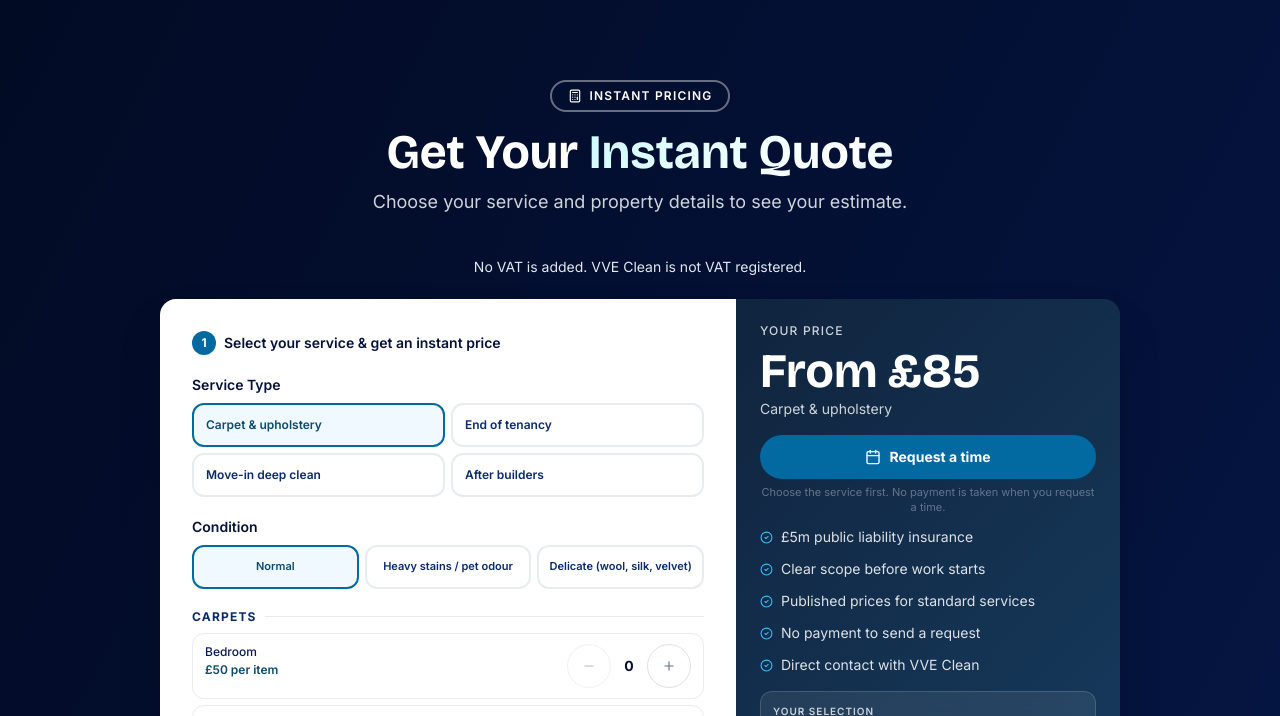
After-builders selection in the general quote calculator › offers an assessed quote and guided project form without a default property or checkout amount
This screenshot has width=1280, height=716.
Click the button "After builders". click: [578, 475]
box: 451,453 -> 704,497
(page scrolled)
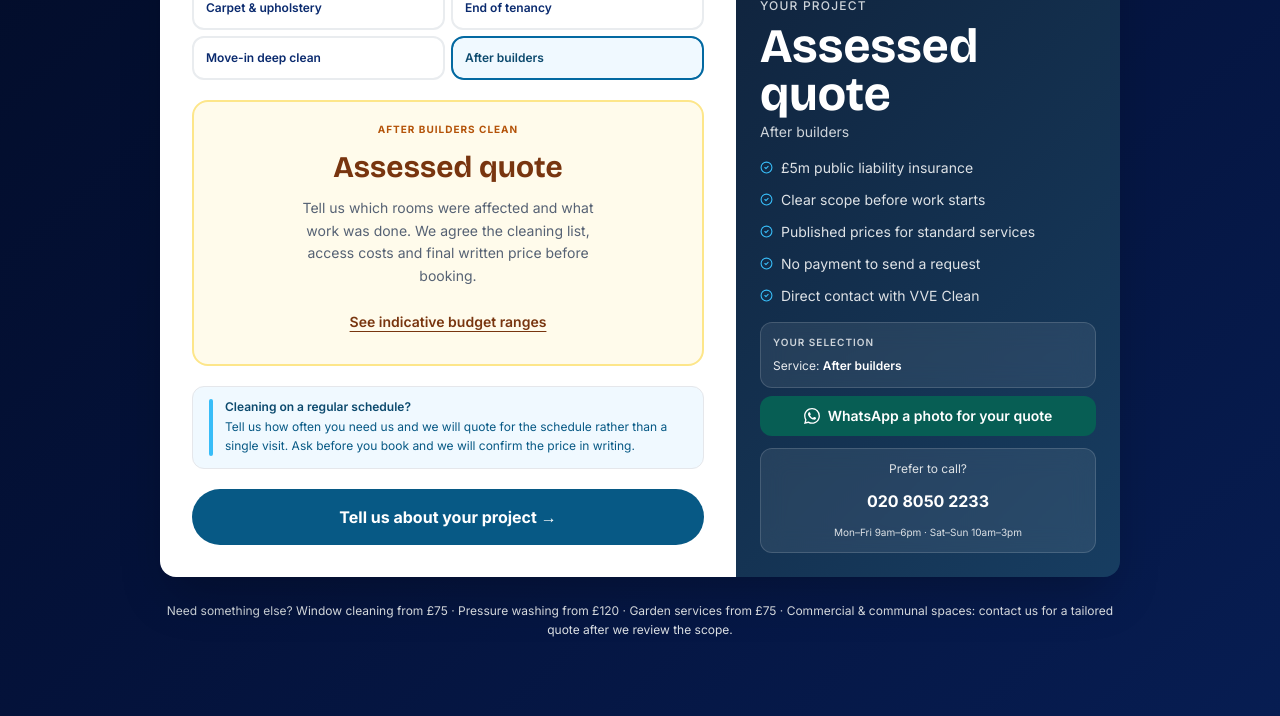
Result: the text "Assessed quote" is shown 2 times at 333,149 -> 563,185; 760,16 -> 978,122
Result: the button "Request a time" is gone
Click the link "Tell us about your project →". click: [448, 517]
box: 192,489 -> 704,545
(page scrolled)
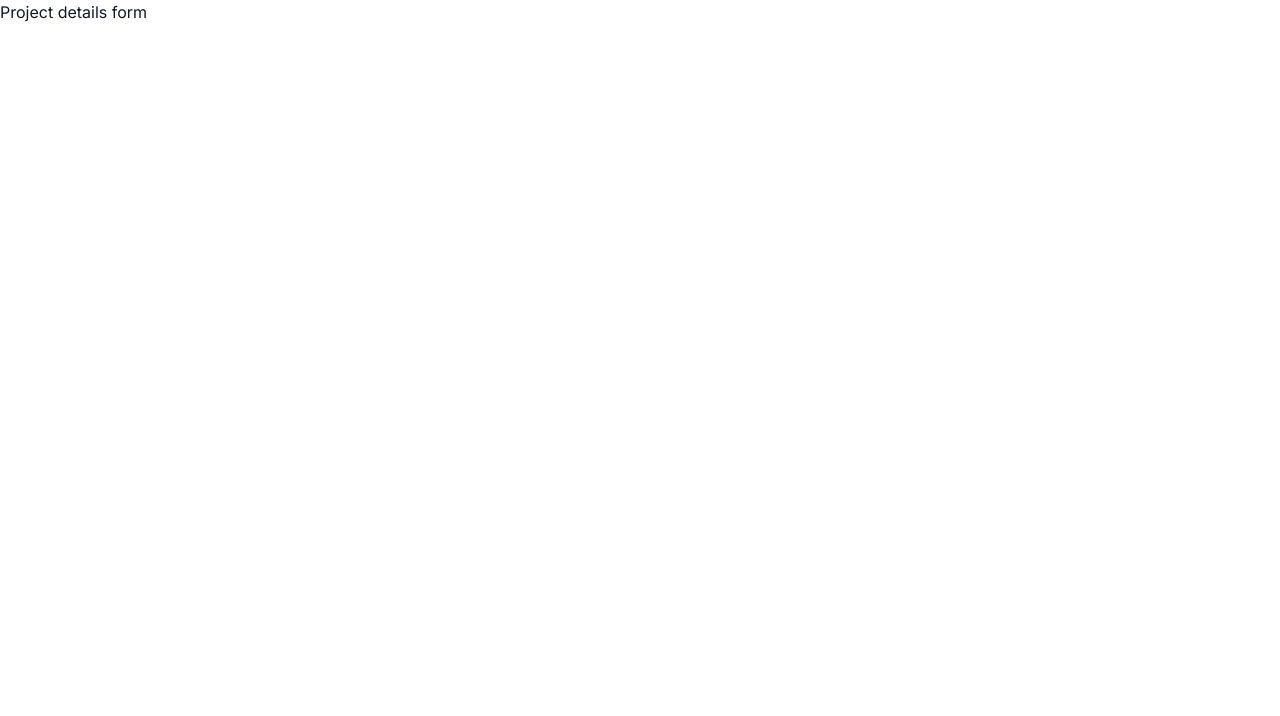
Result: the heading "Project details form" is shown at 0,2 -> 147,22
